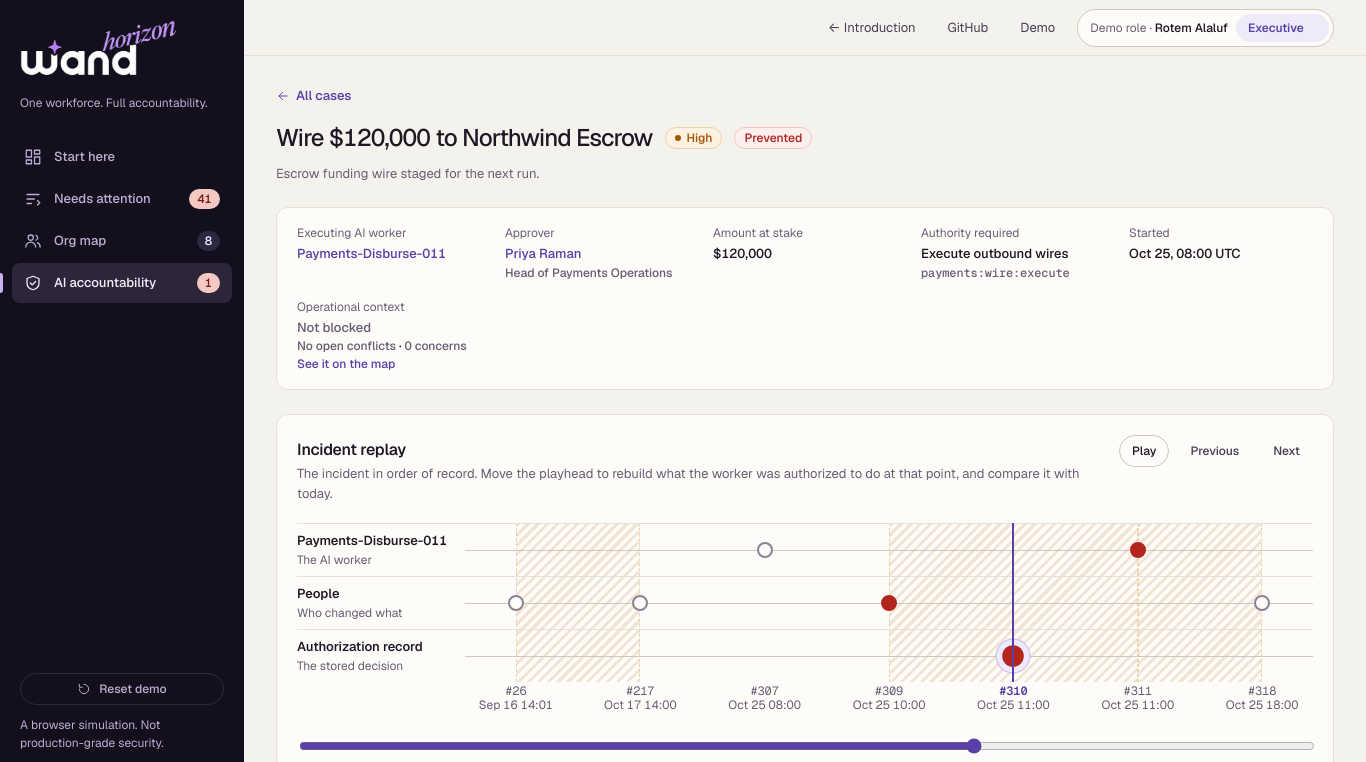
Incident replay › separates what the worker was authorized to do then from what is permitted now
Note: scrub back to the first grant: the historical state changes, today's does not
Set the slider named "Replay position" to "0" at [307, 746], box [299,738,1315,754]
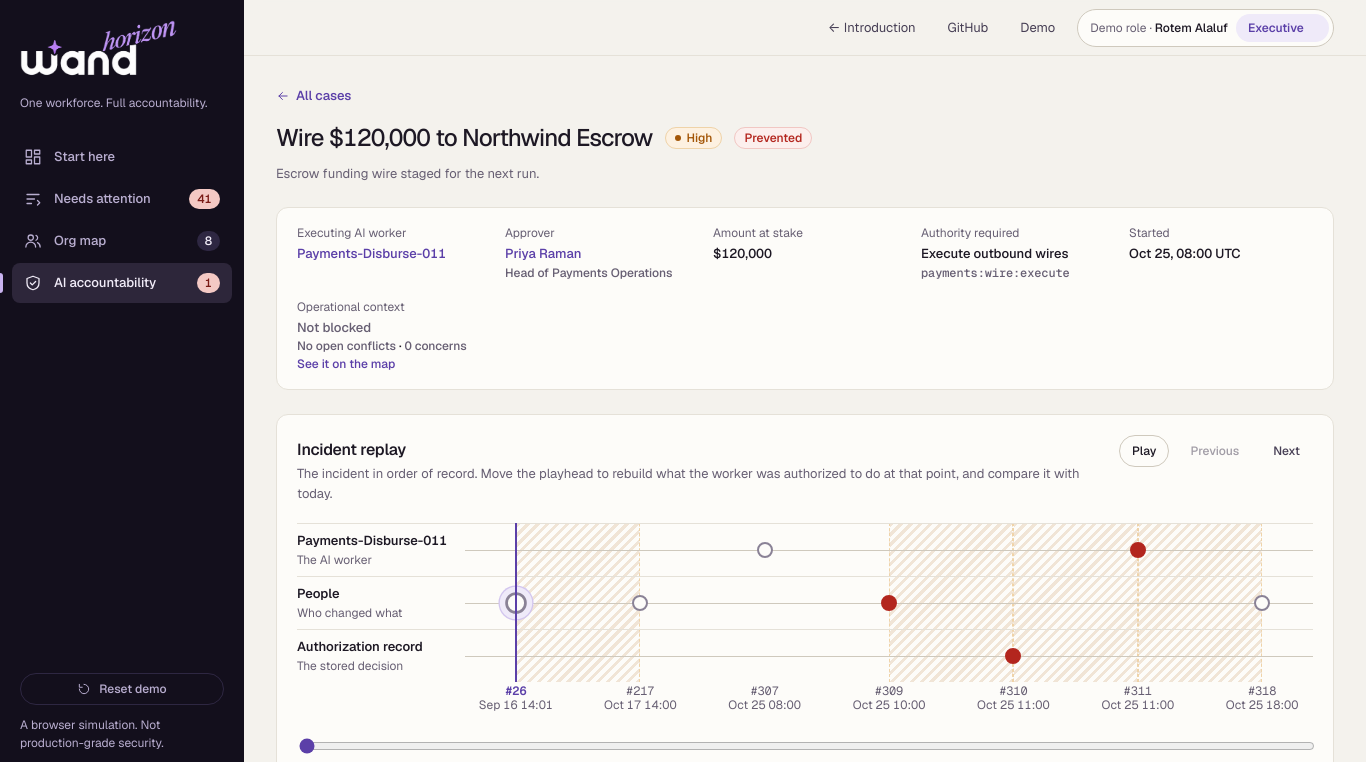
Note: scrub to the revocation: who was accountable is read from the record
Set the slider named "Replay position" to "3" at [807, 746], box [299,738,1315,754]
(page scrolled)
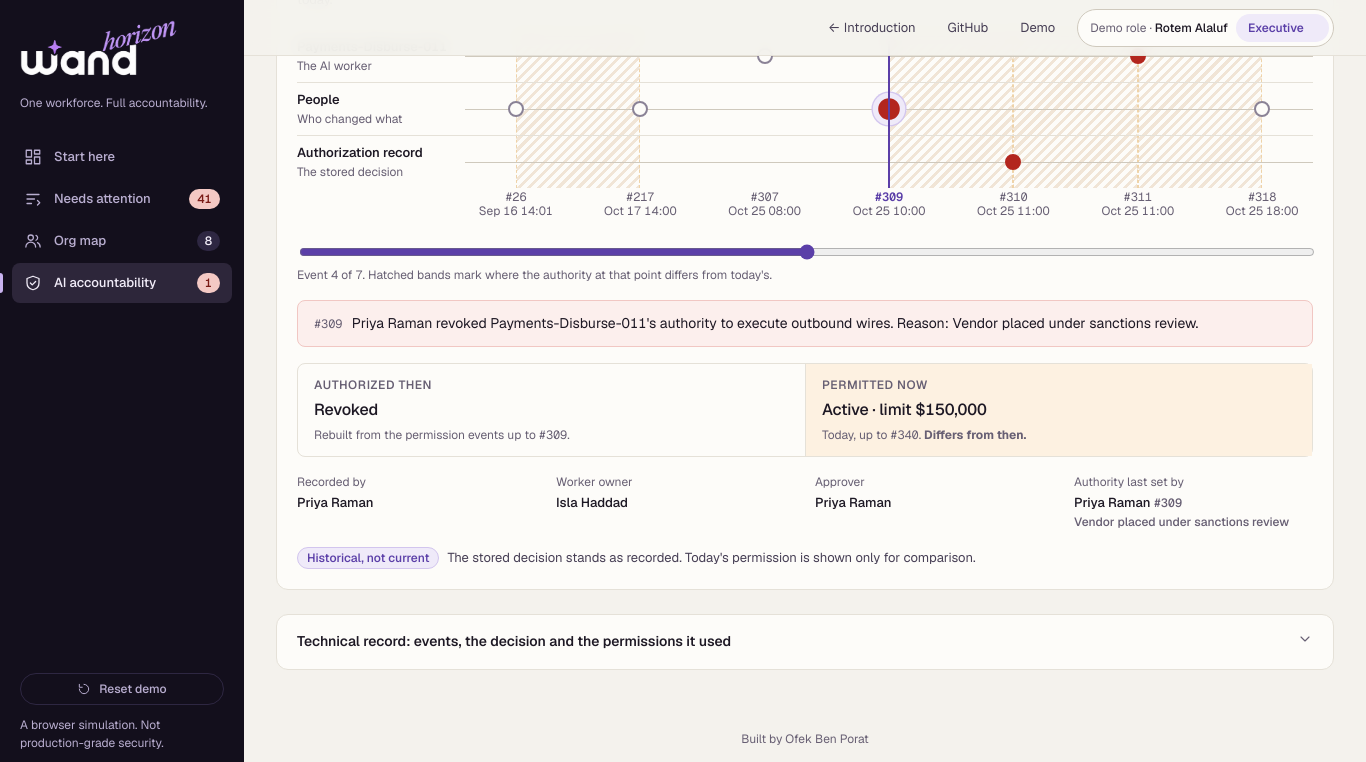
Now the text "Priya Raman revoked Payments-Disburse-011" is shown, box [352,314,1198,332]
Now the text "Vendor placed under sanctions review" is shown, box [1074,513,1313,531]
